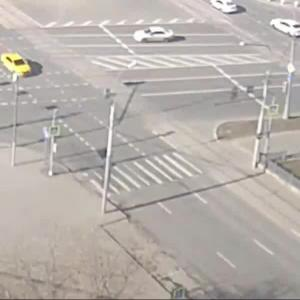car: (1, 49, 34, 78), (131, 28, 178, 47), (269, 18, 300, 38), (211, 1, 241, 18)
